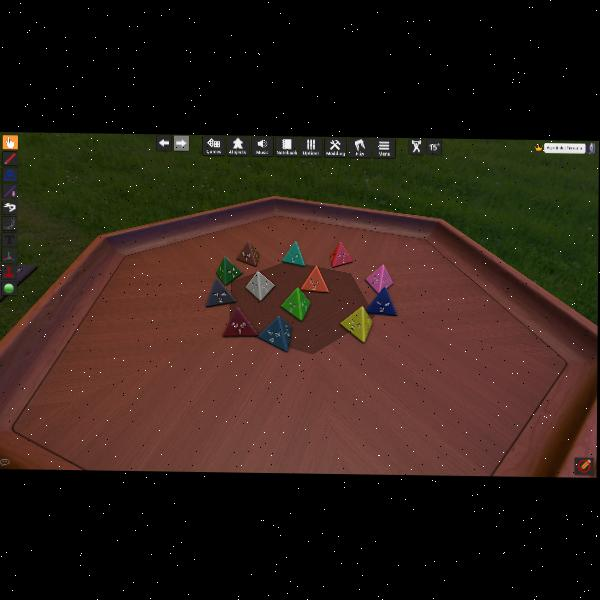d4: (257, 315, 292, 351), (224, 306, 260, 337), (341, 306, 371, 343), (365, 286, 397, 317), (245, 270, 275, 302), (206, 278, 238, 307), (281, 287, 309, 320), (365, 263, 393, 294), (216, 256, 242, 285), (301, 265, 327, 292), (237, 241, 260, 267), (282, 241, 305, 266), (331, 241, 351, 267)
